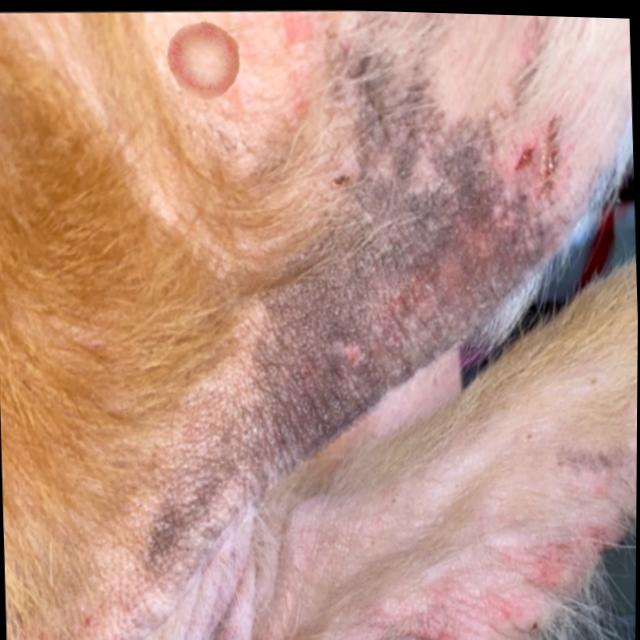ringworm: (158, 19, 265, 111)
